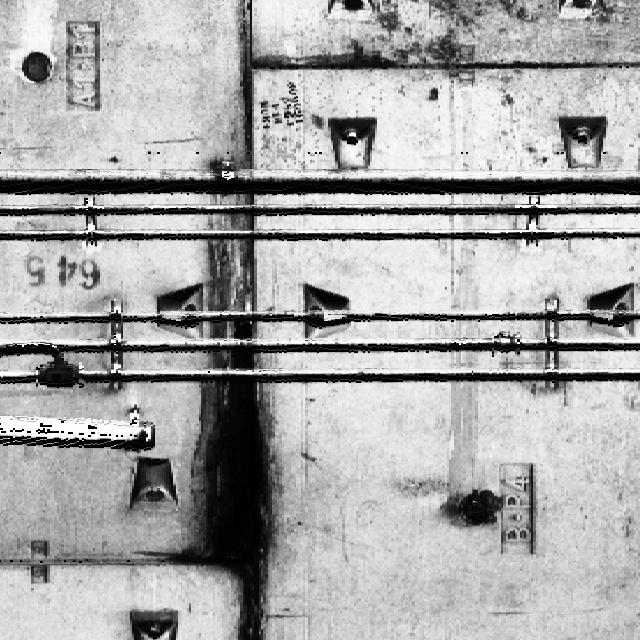leakage: (171, 178, 283, 639)
